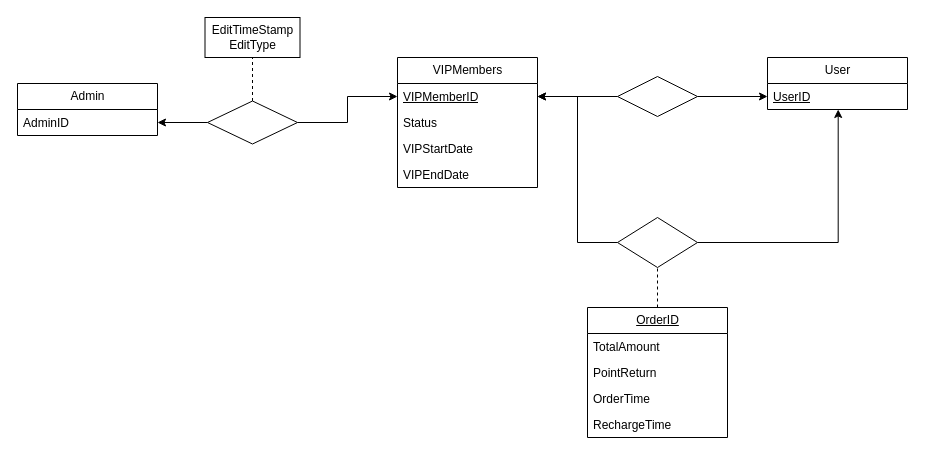
The diagram is 925 pixels wide and 458 high, and some of its shapes have lost their labels. The shapes that lost their labels are listed below. From the top down, each one's centre as x and y in pixels, then its label:
At [657,96]: "User_VIP".
At [252,122]: "Admin_Edit".
At [657,242]: "VIP_Order".
